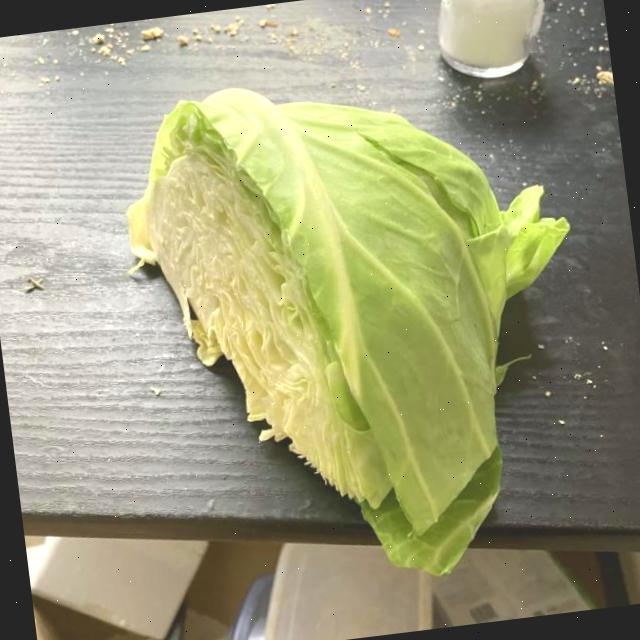cabbage: (110, 48, 608, 610)
